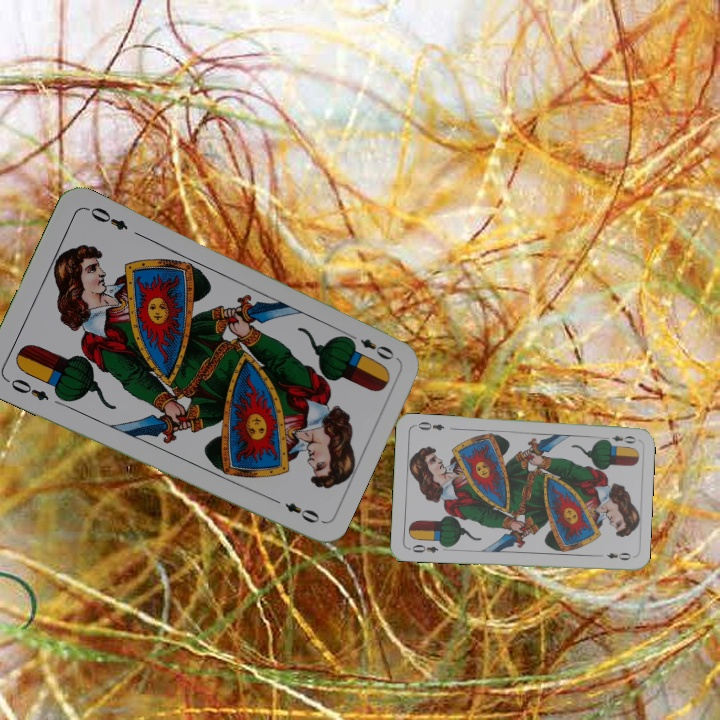EO: (342, 329, 397, 363), (2, 374, 52, 404), (599, 431, 639, 446), (405, 540, 441, 555)
